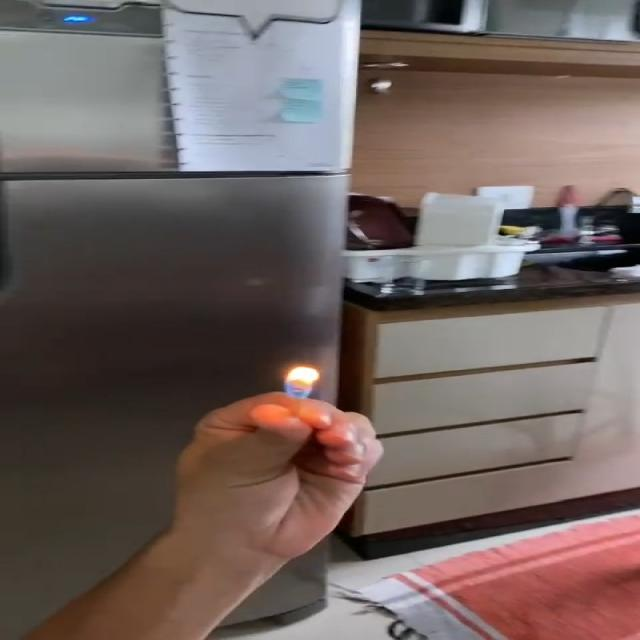fogo-ypXI: (282, 364, 319, 398)
